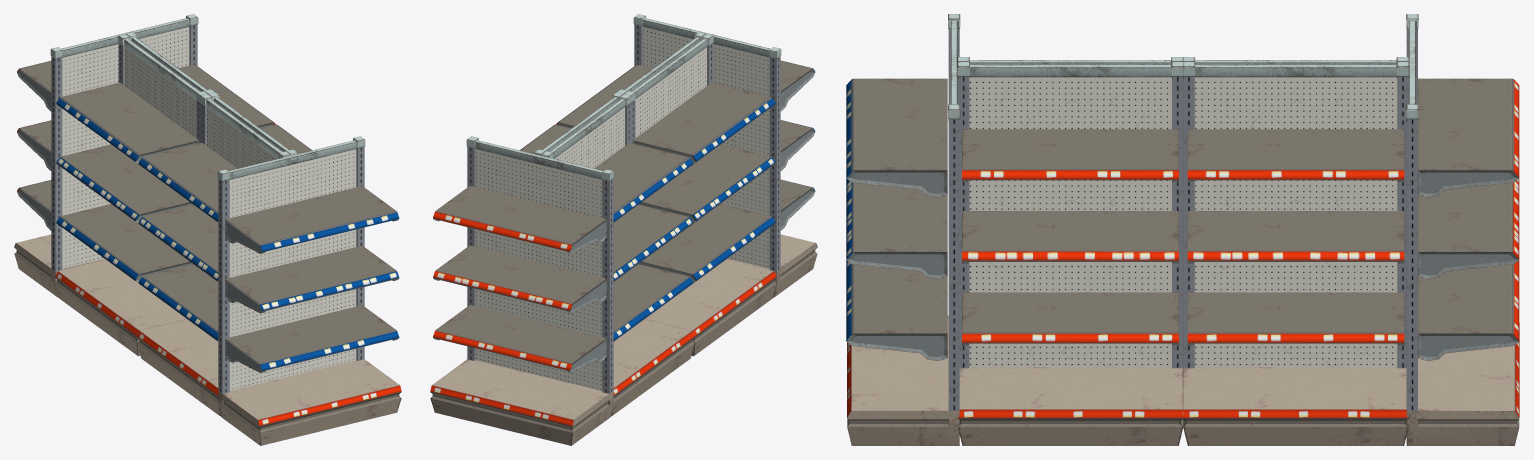
File: supermarket_shelf.glb
3 renders of one model, left to right at view 1: azimuth 30°, elevation 25°; view 2: azimuth 150°, elevation 25°; view 3: azimuth 270°, elevation 25°, orthographic. The views are drawn at different scales.
Visible parts, largest first — view 1: shelf_Base_Expo004, shelf_Base_Expo005, shelf_Base_Expo001, shelf_Base_Expo, shelf_piece_exp031, shelf_piece_exp029, shelf_piece_exp030, shelf_piece_exp028, shelf_piece_exp026, shelf_piece_exp027, shelf_piece_exp025, shelf_piece_exp023 (+8 smaller); view 2: shelf_Base_Expo005, shelf_Base_Expo004, shelf_Base_Expo, shelf_Base_Expo001, shelf_piece_exp018, shelf_piece_exp017, shelf_piece_exp019, shelf_piece_exp025, shelf_piece_exp023, shelf_piece_exp024, shelf_piece_exp028, shelf_piece_exp026 (+8 smaller); view 3: shelf_Base_Expo003, shelf_Base_Expo002, shelf_Base_Expo005, shelf_Base_Expo004, shelf_piece_exp008, shelf_piece_exp010, shelf_piece_exp011, shelf_piece_exp013, shelf_piece_exp031, shelf_piece_exp019, shelf_piece_exp009, shelf_piece_exp012 (+6 smaller).
Boxes of the visible parts, <box> form: shelf_Base_Expo004: <box>217,136,401,445</box>; shelf_Base_Expo005: <box>14,14,198,297</box>; shelf_Base_Expo001: <box>55,34,207,356</box>; shelf_Base_Expo: <box>137,94,290,416</box>; shelf_piece_exp031: <box>225,186,399,253</box>; shelf_piece_exp029: <box>225,305,399,372</box>; shelf_piece_exp030: <box>225,245,399,313</box>; shelf_piece_exp028: <box>56,82,199,163</box>; shelf_piece_exp026: <box>56,204,192,282</box>; shelf_piece_exp027: <box>56,144,192,223</box>; shelf_piece_exp025: <box>138,142,237,222</box>; shelf_piece_exp023: <box>138,264,218,341</box>; shelf_Base_Expo005: <box>430,136,614,445</box>; shelf_Base_Expo004: <box>633,14,817,297</box>; shelf_Base_Expo: <box>624,34,776,356</box>; shelf_Base_Expo001: <box>541,94,694,416</box>; shelf_piece_exp018: <box>433,245,606,313</box>; shelf_piece_exp017: <box>433,305,606,372</box>; shelf_piece_exp019: <box>433,186,606,253</box>; shelf_piece_exp025: <box>632,82,775,163</box>; shelf_piece_exp023: <box>639,204,775,282</box>; shelf_piece_exp024: <box>639,144,775,223</box>; shelf_piece_exp028: <box>594,142,693,222</box>; shelf_piece_exp026: <box>613,264,693,341</box>; shelf_Base_Expo003: <box>957,61,1183,445</box>; shelf_Base_Expo002: <box>1183,61,1409,445</box>; shelf_Base_Expo005: <box>1406,14,1519,445</box>; shelf_Base_Expo004: <box>847,14,960,445</box>; shelf_piece_exp008: <box>1187,292,1404,345</box>; shelf_piece_exp010: <box>1187,129,1404,182</box>; shelf_piece_exp011: <box>962,292,1178,345</box>; shelf_piece_exp013: <box>962,129,1178,182</box>; shelf_piece_exp031: <box>846,78,947,197</box>; shelf_piece_exp019: <box>1418,78,1519,197</box>; shelf_piece_exp009: <box>1187,211,1404,263</box>; shelf_piece_exp012: <box>962,211,1178,263</box>.
Bounding box in the file's own units: 1.09 × 1.8 × 3.24.
2 materials, 2 textured.
